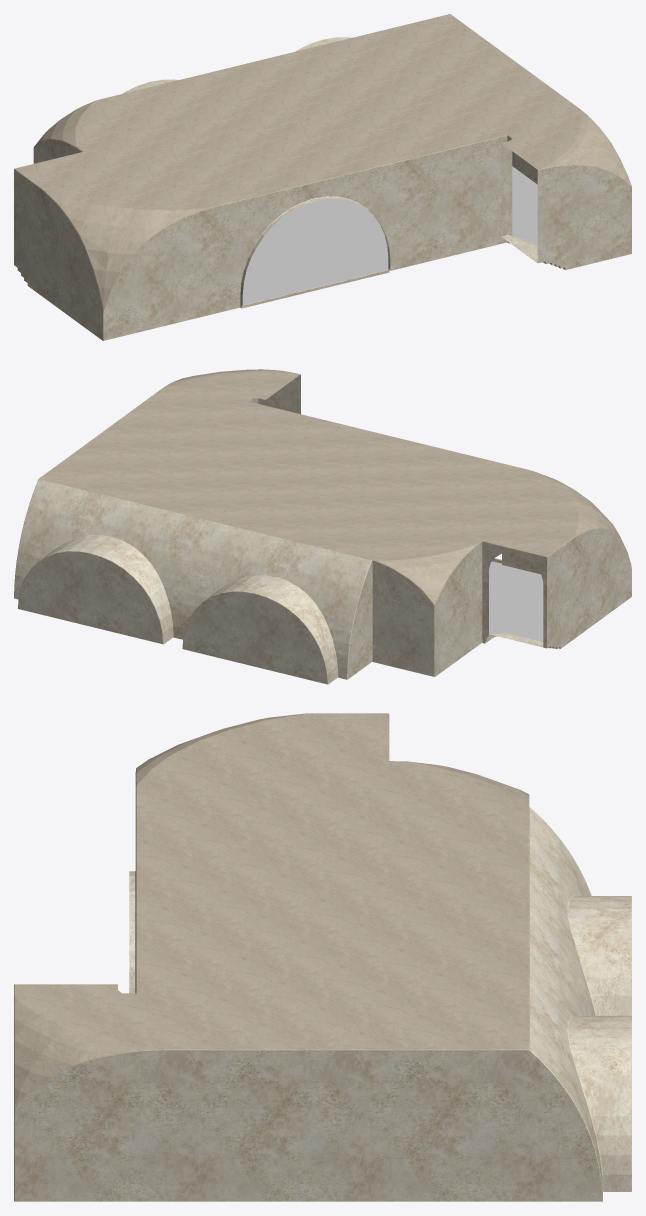
Rendered from thm_tato_house_m_s01_fp1_r2_livingroom1_mesh_r2.fbx.
3 renders of one model, top to bottom at view 1: azimuth 30°, elevation 25°; view 2: azimuth 150°, elevation 25°; view 3: azimuth 270°, elevation 25°, orthographic. The views are drawn at different scales.
Parts seen in each view (by area): view 1: mesh_node; view 2: mesh_node; view 3: mesh_node.
Part boxes in pixels (x1,y1,x2,y2): mesh_node: (14, 14, 631, 340); mesh_node: (14, 369, 631, 684); mesh_node: (14, 713, 631, 1201).
Bounding box in the file's own units: 22.48 × 4.74 × 17.44.
